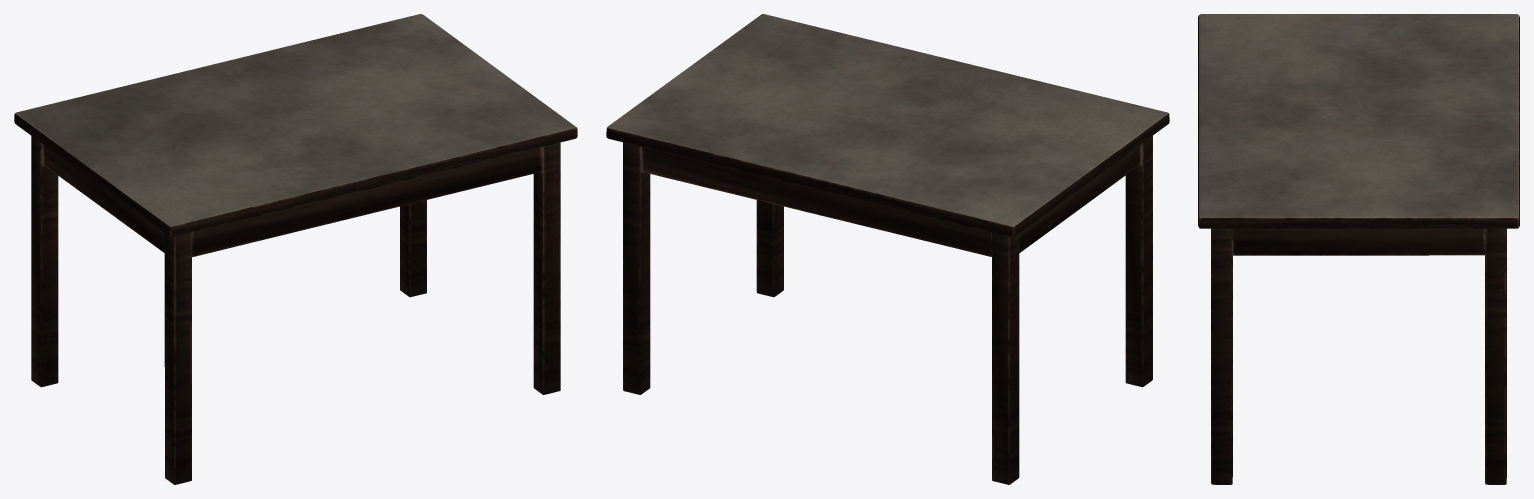
The model's file is kitchen_table-low.glb.
3 views of the same model, side by side, from view 1: azimuth 30°, elevation 25°; view 2: azimuth 150°, elevation 25°; view 3: azimuth 270°, elevation 25° (orthographic). The views are drawn at different scales.
Parts seen in each view (by area): view 1: kitchen_table-low; view 2: kitchen_table-low; view 3: kitchen_table-low.
Part boxes in pixels (x1,y1,x2,y2): kitchen_table-low: (14, 14, 577, 484); kitchen_table-low: (606, 14, 1169, 484); kitchen_table-low: (1198, 14, 1519, 484).
Bounding box in the file's own units: 1.22 × 0.7601 × 0.81.
1 material, 1 textured.
